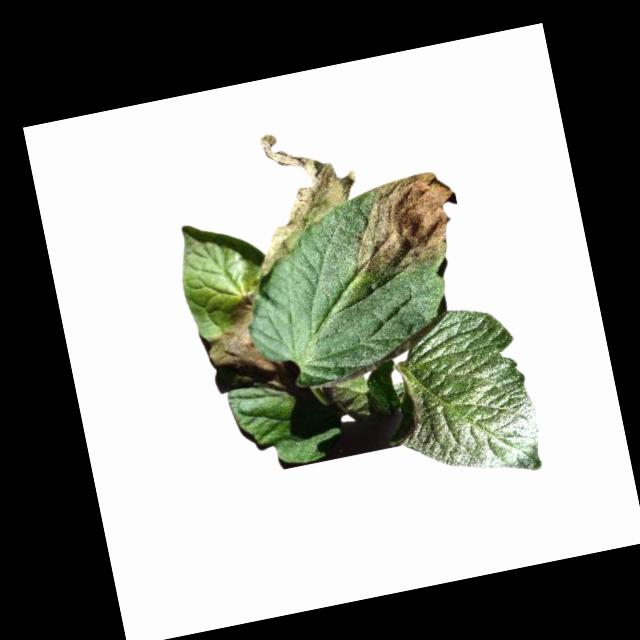Late_blight: (235, 119, 369, 278), (340, 166, 471, 282), (199, 286, 295, 402)
